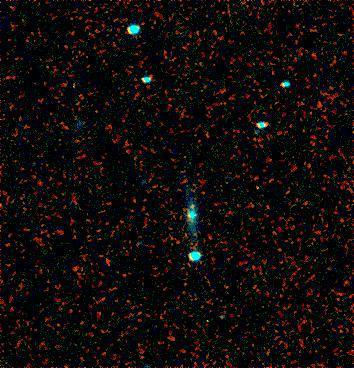star: (178, 193, 208, 223)
